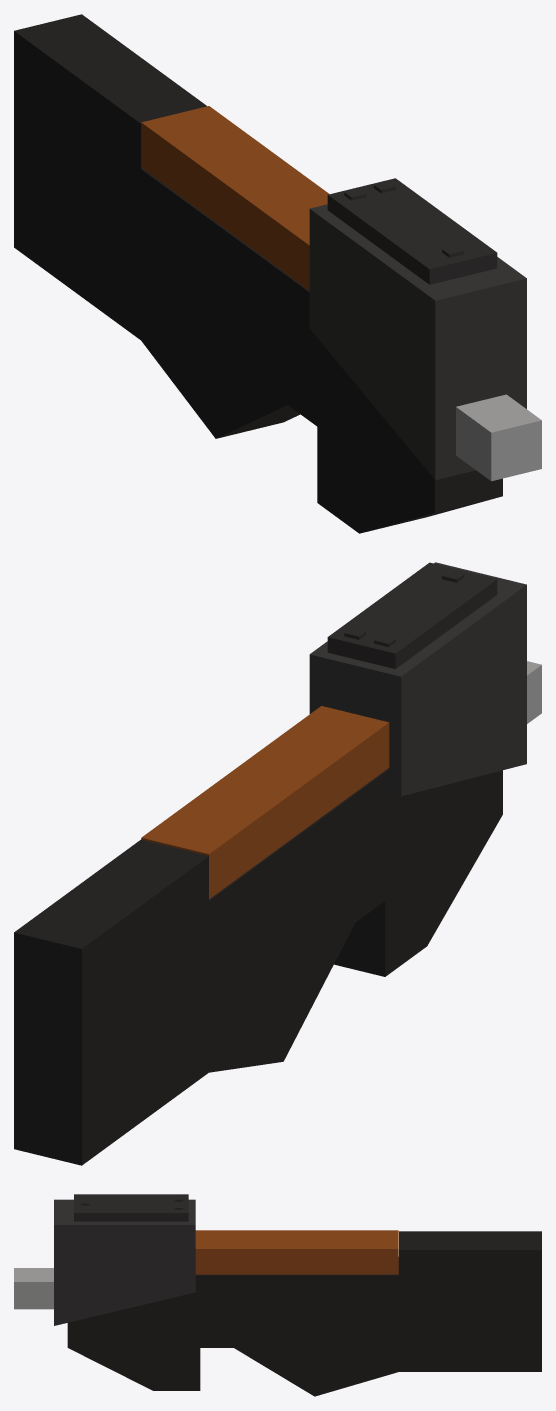
The model's file is SMG90.FBX.
3 renders of one model, top to bottom at view 1: azimuth 30°, elevation 25°; view 2: azimuth 150°, elevation 25°; view 3: azimuth 270°, elevation 25°, orthographic. The views are drawn at different scales.
Visible parts, largest first — view 1: SMG90, SMG90_mag; view 2: SMG90, SMG90_mag; view 3: SMG90, SMG90_mag.
Boxes of the visible parts, x1=… form: SMG90: x1=14, y1=14, x2=541, y2=533; SMG90_mag: x1=141, y1=106, x2=329, y2=290; SMG90: x1=14, y1=562, x2=541, y2=1165; SMG90_mag: x1=141, y1=706, x2=389, y2=899; SMG90: x1=14, y1=1194, x2=541, y2=1396; SMG90_mag: x1=195, y1=1230, x2=398, y2=1274.
Size of the model in its own units: 12.88 by 114 by 44.26.
